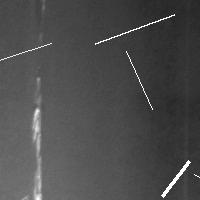scratches: (90, 10, 179, 49), (121, 46, 157, 114), (28, 76, 45, 200), (0, 38, 56, 75), (157, 156, 194, 200), (189, 169, 200, 200)
